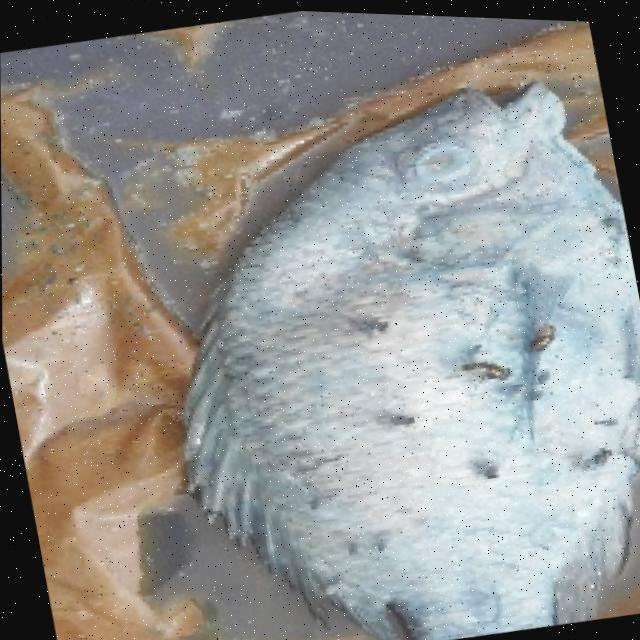Non-Fresh: (204, 28, 640, 640), (394, 121, 494, 212)
